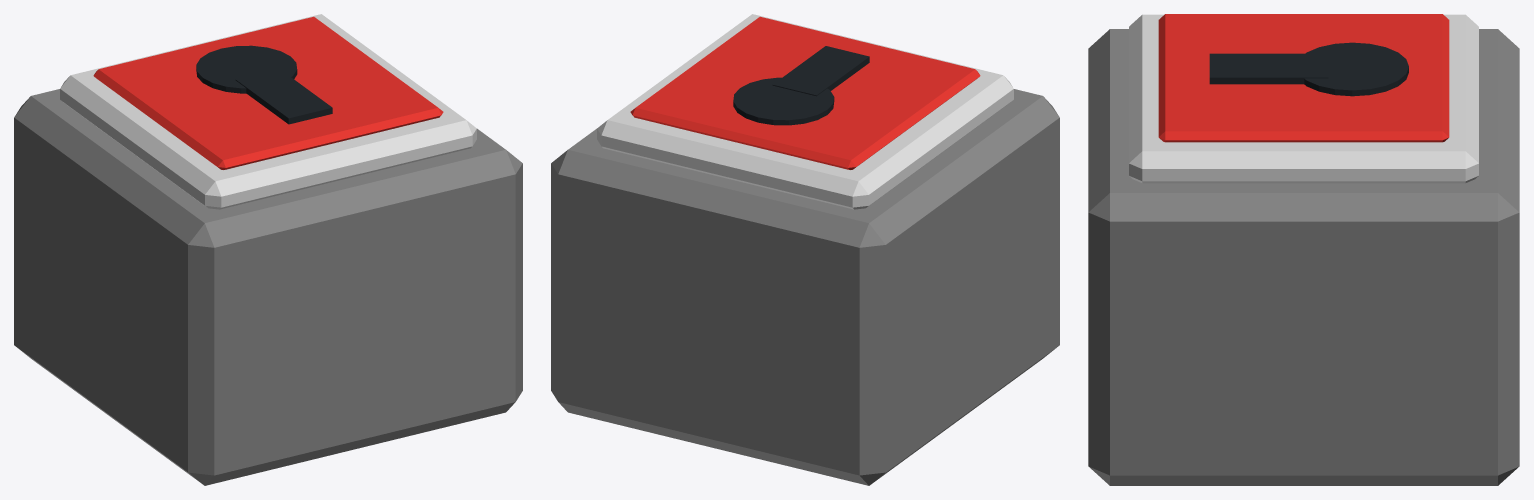
File: door-red.glb
3 views of the same model, side by side, from view 1: azimuth 30°, elevation 25°; view 2: azimuth 150°, elevation 25°; view 3: azimuth 270°, elevation 25° (orthographic). The views are drawn at different scales.
Parts seen in each view (by area): view 1: door-red; view 2: door-red; view 3: door-red.
Part boxes in pixels (x1=…): door-red: x1=14, y1=14, x2=522, y2=485; door-red: x1=551, y1=14, x2=1059, y2=485; door-red: x1=1088, y1=14, x2=1519, y2=485.
Size of the model in its own units: 0.8 by 0.693 by 0.8.
